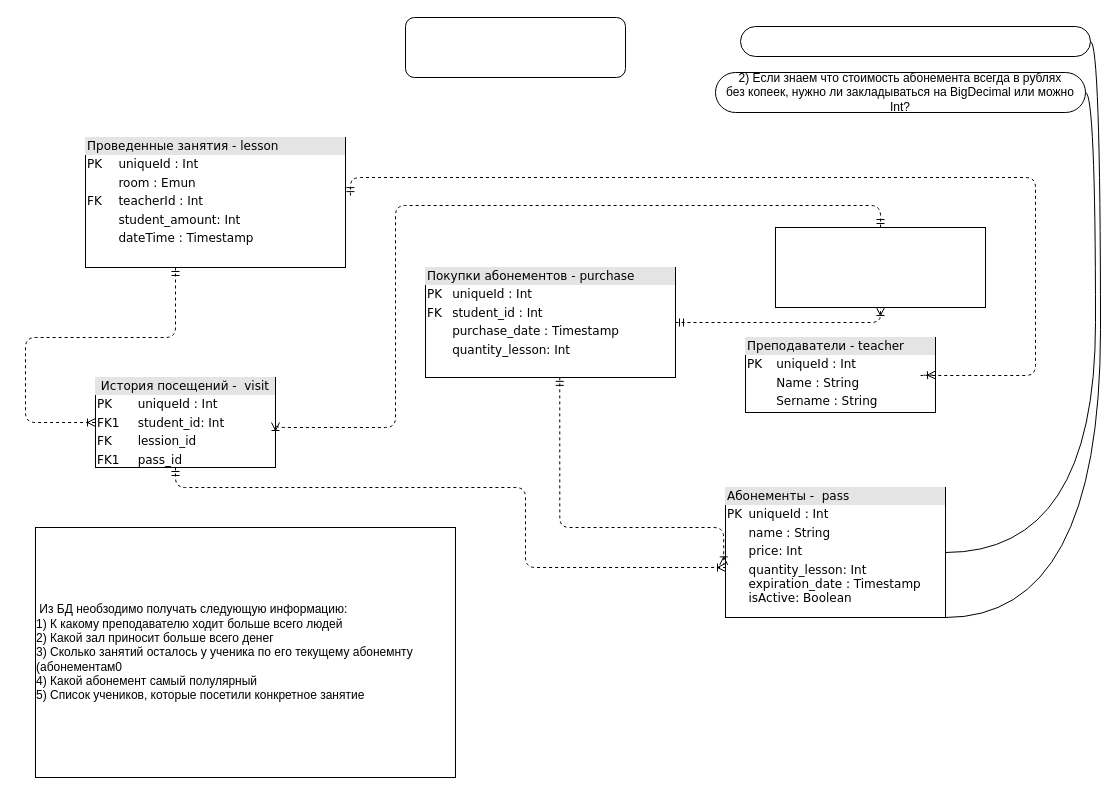
Image size: 1118x795. Some labels were removed from this diagram. Each missing label, with the centre of its shape:
1) а если абонемент не на 16 занятий, а безлимитный?: pixel 915 41
Модель данных - Школа танцев: pixel 515 47
Ученики - student PK uniqueId : Int FIO: String date_of_birth: Timestamp: pixel 880 267
